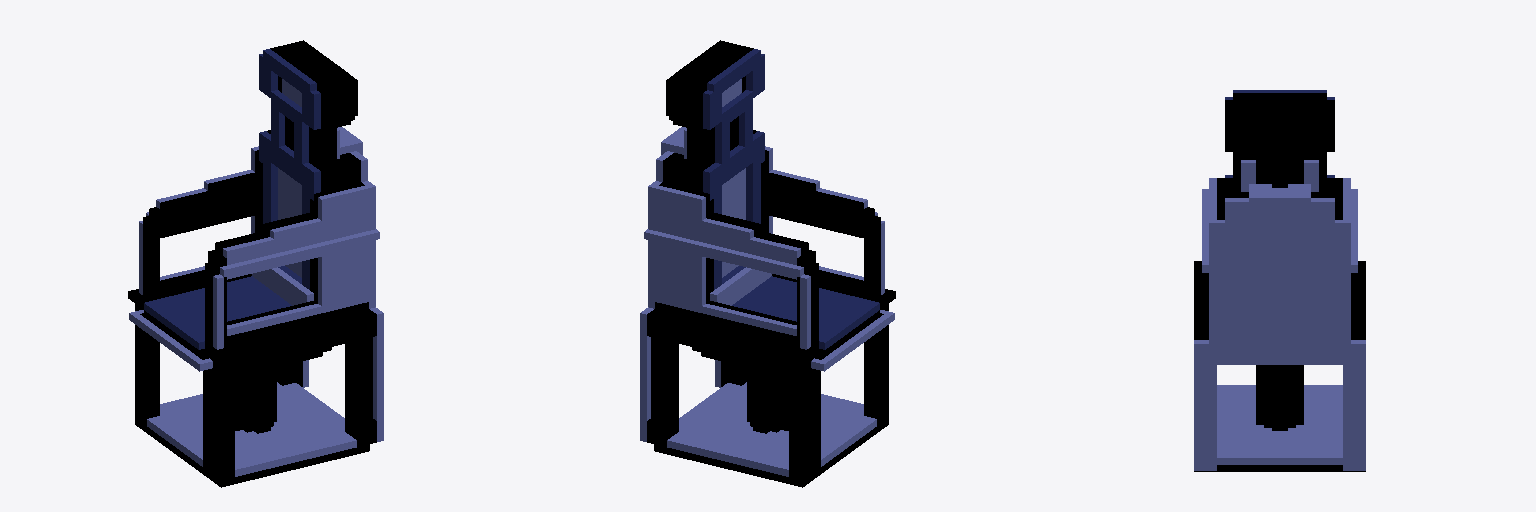
3 renders of one model, left to right at view 1: azimuth 30°, elevation 25°; view 2: azimuth 150°, elevation 25°; view 3: azimuth 270°, elevation 25°, orthographic.
Parts seen in each view (by area): view 1: object 1; view 2: object 1; view 3: object 1.
Part boxes in pixels (x1,y1,x2,y2): object 1: (128,40,383,487); object 1: (640,40,895,487); object 1: (1194,90,1365,471).
Bounding box in the file's own units: 2.7 × 5.1 × 2.2.
Materials: 1 (1 with a texture image).